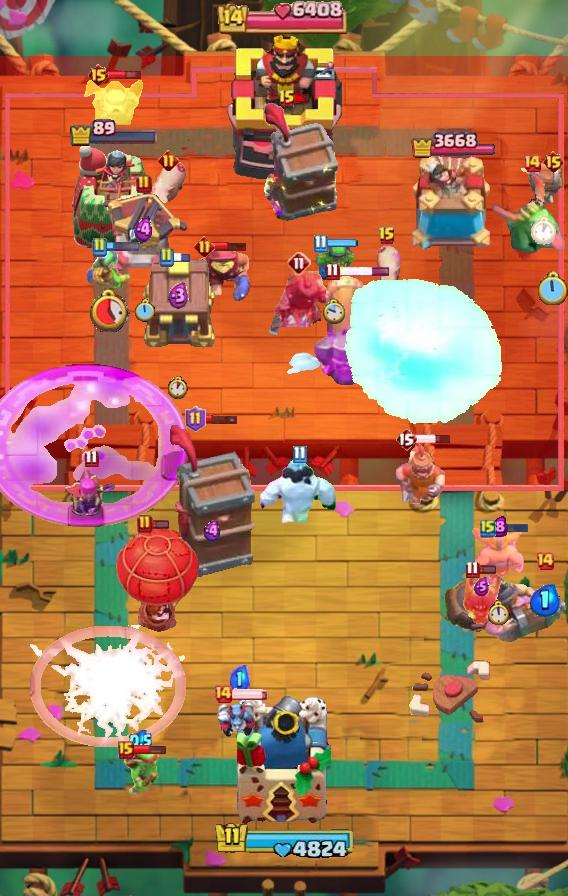barbarian-evolution: (30, 625, 188, 747)
bomb: (138, 256, 218, 350)
cannon-cart: (113, 523, 203, 633)
clock: (210, 820, 358, 862), (217, 0, 351, 34)
dart-goblin: (167, 423, 257, 579), (263, 103, 341, 223)
earthquake: (393, 436, 445, 504)
electro-spirit: (531, 584, 562, 616), (167, 282, 188, 310), (129, 728, 152, 752), (134, 216, 154, 243), (230, 664, 250, 691), (201, 520, 222, 542), (490, 516, 508, 537), (475, 577, 490, 595)
electro-wizard: (492, 172, 568, 258)
elixir: (87, 287, 130, 332), (536, 272, 568, 309), (530, 215, 558, 244), (322, 298, 345, 325), (490, 600, 511, 625), (167, 377, 189, 400), (133, 299, 154, 323)
emote: (337, 266, 390, 277), (106, 67, 142, 80), (231, 688, 269, 700), (416, 433, 453, 445), (203, 413, 239, 425), (133, 744, 168, 756), (212, 241, 248, 252), (105, 241, 141, 252), (494, 523, 529, 534), (325, 238, 359, 248), (173, 251, 192, 263), (150, 518, 170, 529), (478, 565, 498, 576), (293, 92, 311, 104)
evolution-symbol: (62, 468, 120, 526)
fireball: (181, 244, 253, 304)
furnace: (311, 273, 379, 385)
giant: (147, 160, 189, 206), (370, 242, 404, 298)
giant-snowball: (83, 247, 133, 291), (119, 747, 161, 797), (312, 242, 354, 282)
goblin-giant: (471, 526, 527, 580)
golden-knight: (460, 568, 502, 628)
inferno-dragon: (266, 271, 332, 343)
king-tower: (226, 33, 342, 181), (237, 696, 331, 826)
knight: (516, 161, 568, 207)
knight-evolution: (0, 364, 188, 528)
lava-pup: (100, 193, 188, 275)
mega-knight: (341, 278, 507, 428)
mini-pekka: (82, 77, 146, 125)
queen-tower: (71, 144, 157, 255), (407, 156, 499, 256)
rage: (259, 457, 339, 523)
royal-delivery: (217, 699, 263, 739)
selected: (411, 129, 495, 162), (69, 119, 159, 147)
text: (287, 251, 311, 275), (86, 63, 109, 87), (542, 150, 565, 174), (185, 406, 206, 432), (395, 427, 417, 451), (193, 236, 215, 257), (158, 149, 179, 170), (522, 153, 542, 173), (535, 551, 555, 571), (213, 684, 233, 704), (278, 89, 296, 109), (378, 226, 396, 246), (136, 174, 152, 194), (91, 237, 107, 257), (158, 247, 174, 267), (137, 514, 153, 534), (480, 518, 496, 538), (118, 741, 134, 759), (312, 234, 327, 253), (325, 262, 339, 281), (293, 444, 307, 463), (85, 449, 99, 468), (465, 561, 479, 580)
wizard: (442, 571, 568, 645)
